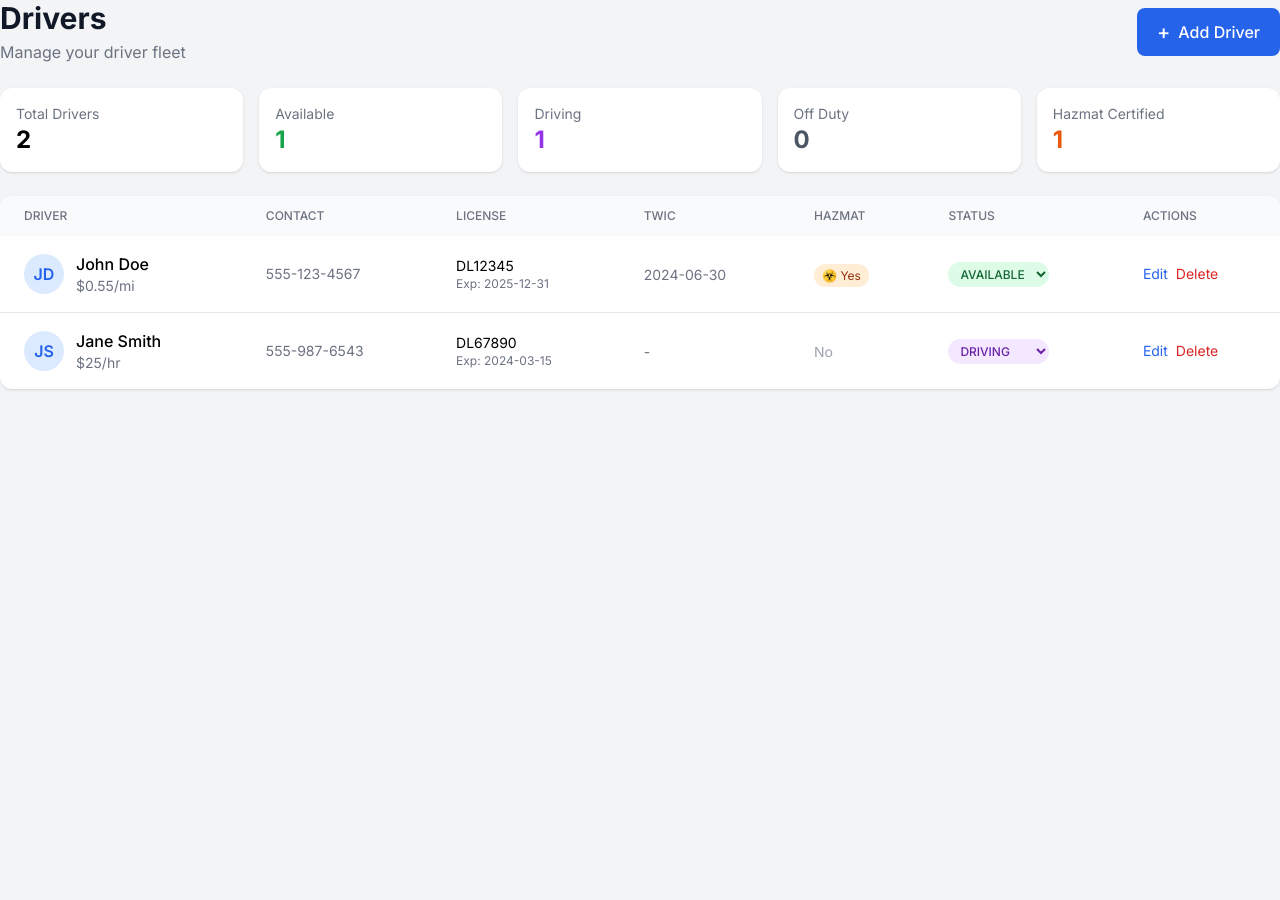
Test case: DriversPage › add driver modal › should open modal when Add Driver button is clicked
Expected: the heading "Drivers" is shown, 0,0 -> 106,36
Click the header Add Driver button
Click the button "+ Add Driver": (1208, 32) 1137,8 -> 1279,56
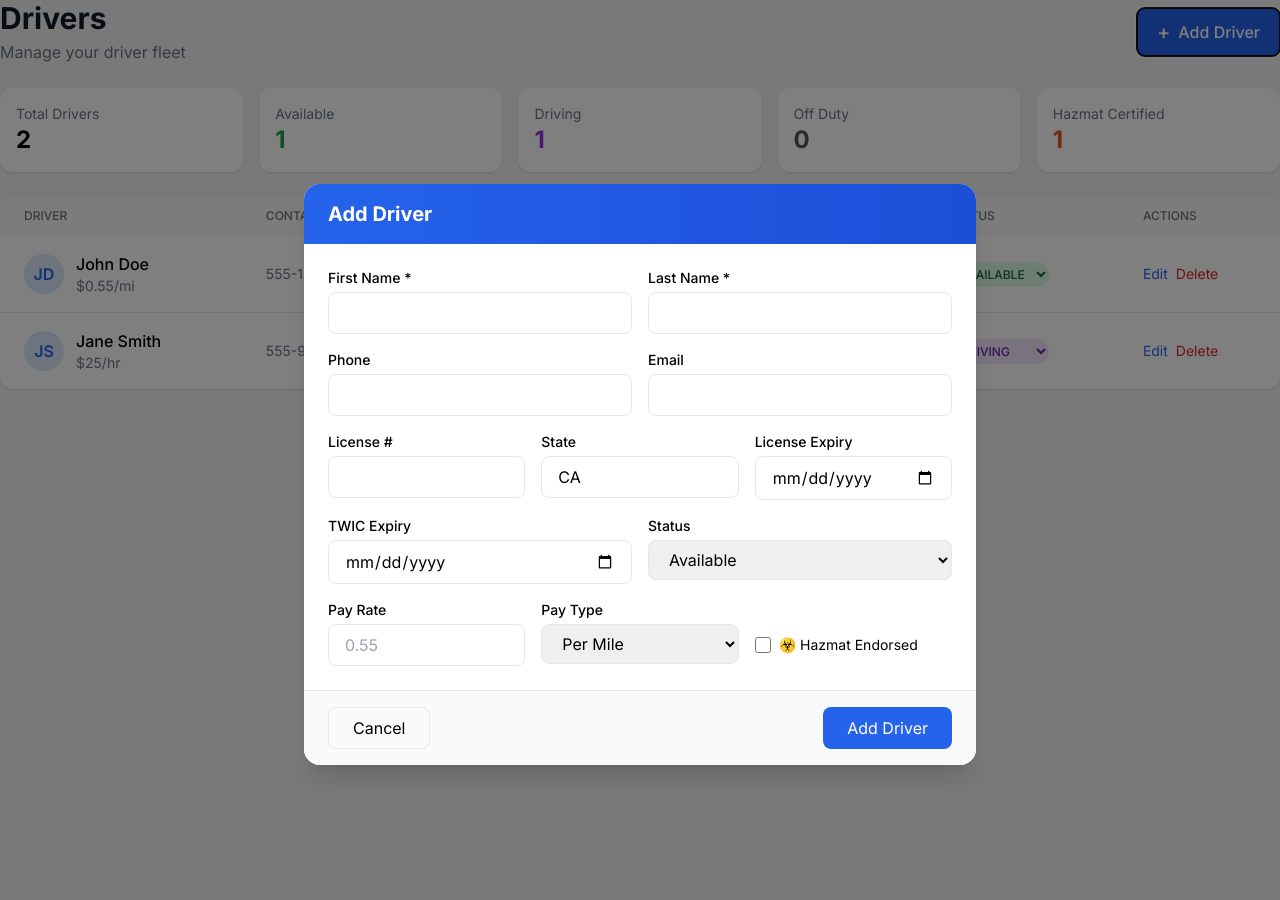
Expected: the heading "Add Driver" is shown, 328,202 -> 432,226
Expected: the text "First Name *" is shown, 328,268 -> 412,286
Expected: the text "Last Name *" is shown, 648,268 -> 730,286
